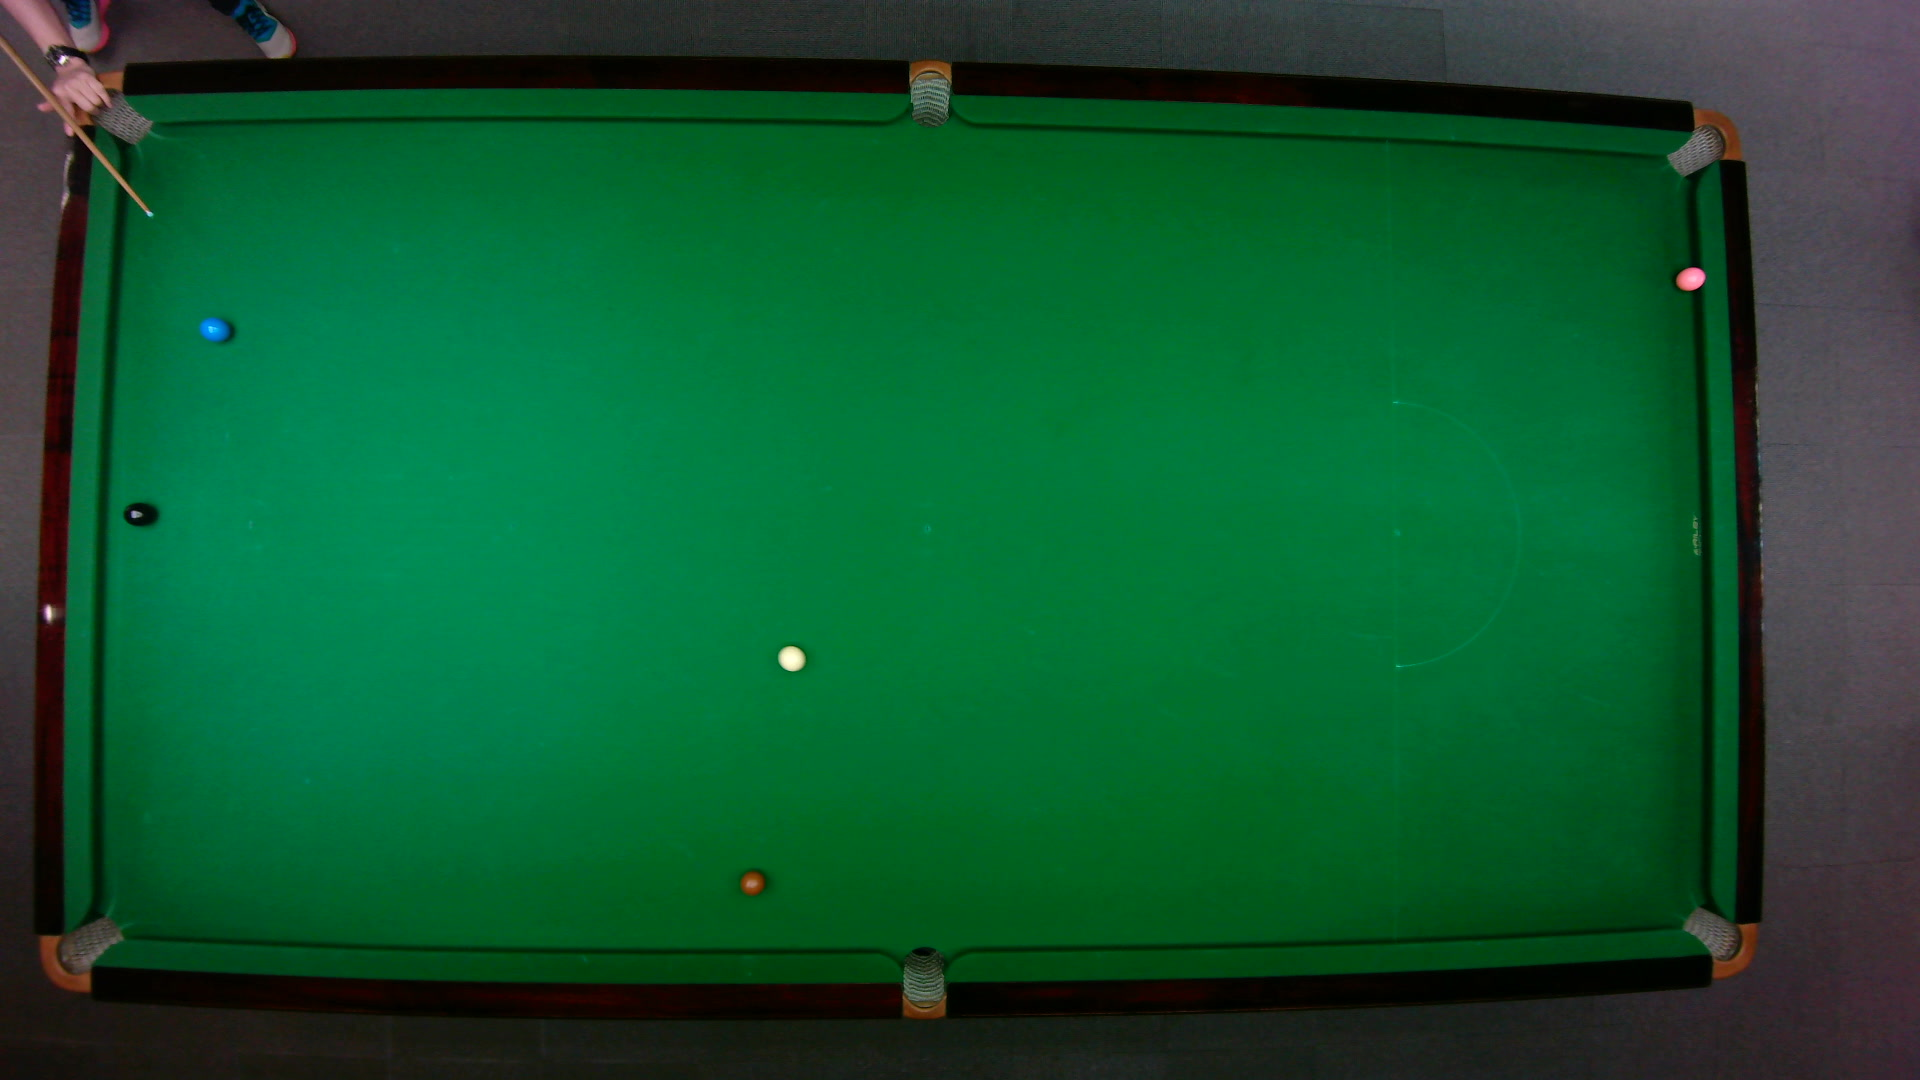bag: (38, 914, 125, 993), (63, 69, 150, 146), (1679, 905, 1756, 978), (1663, 107, 1742, 177), (901, 944, 944, 1021), (909, 57, 949, 128)
black: (121, 500, 154, 526)
blue: (196, 315, 231, 342)
brown: (738, 868, 765, 895)
cue: (0, 37, 156, 222)
pink: (1673, 264, 1706, 291)
white: (775, 644, 806, 671)
zone: (1390, 400, 1519, 667)
